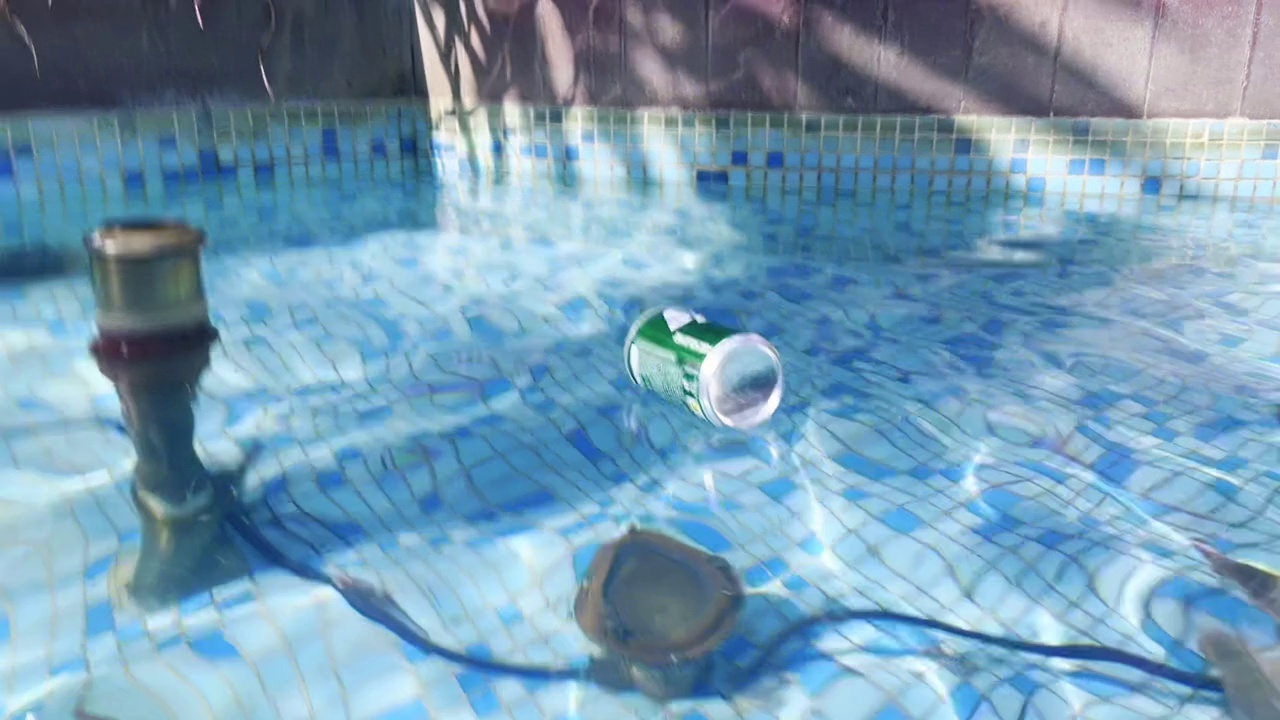debris: (618, 292, 791, 442)
